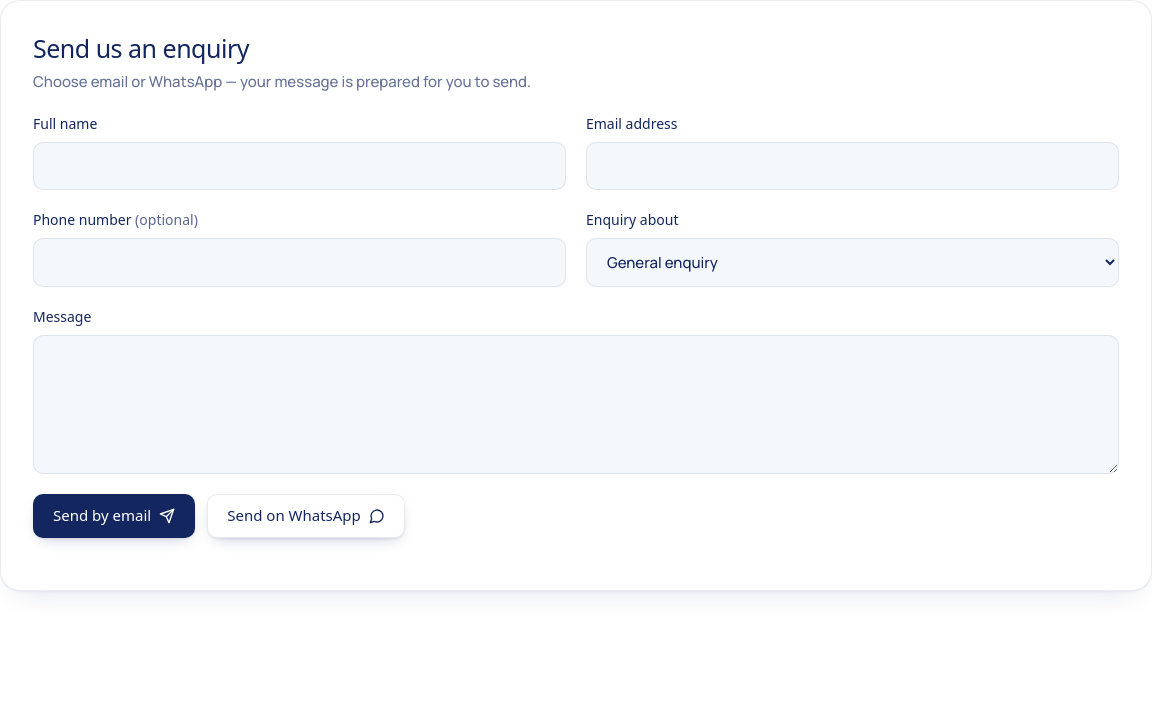
Test: EnquiryForm › opens a pre-filled email and confirms when the enquiry is valid
Type "Ada Obi" into the field labelled "Full name" at point(300, 166), box top-left (33, 142), bottom-right (566, 190)
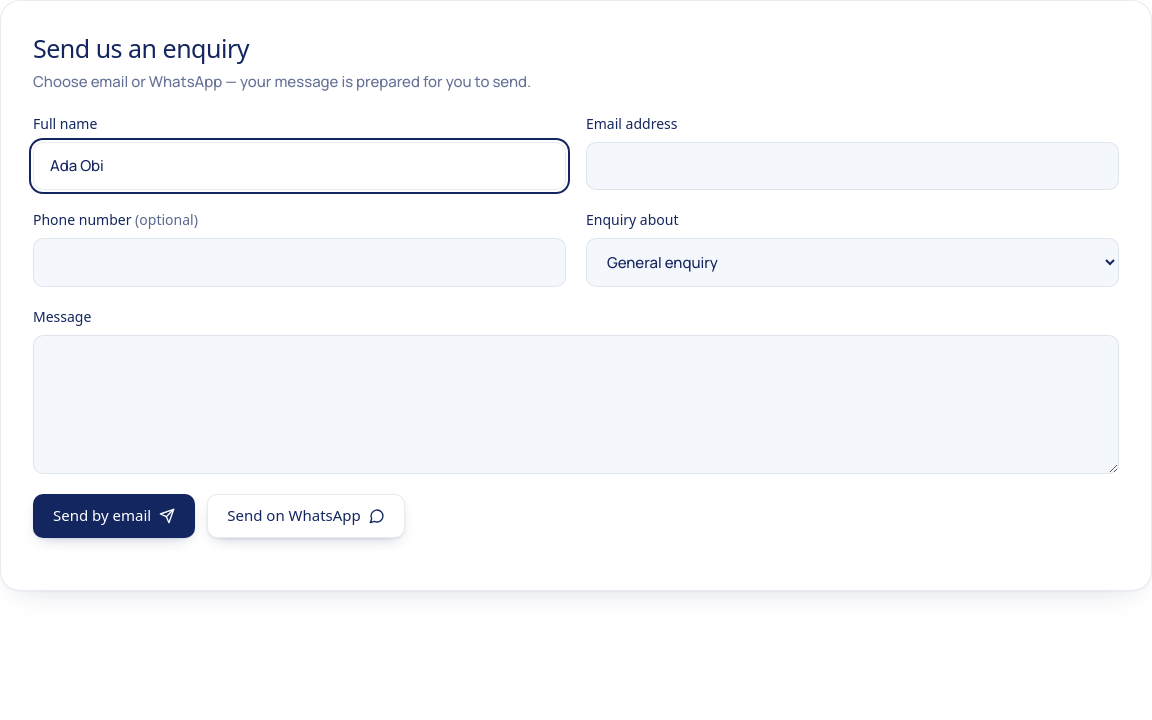
Type "ada@example.com" into the field labelled "Email address" at point(852, 166), box top-left (586, 142), bottom-right (1119, 190)
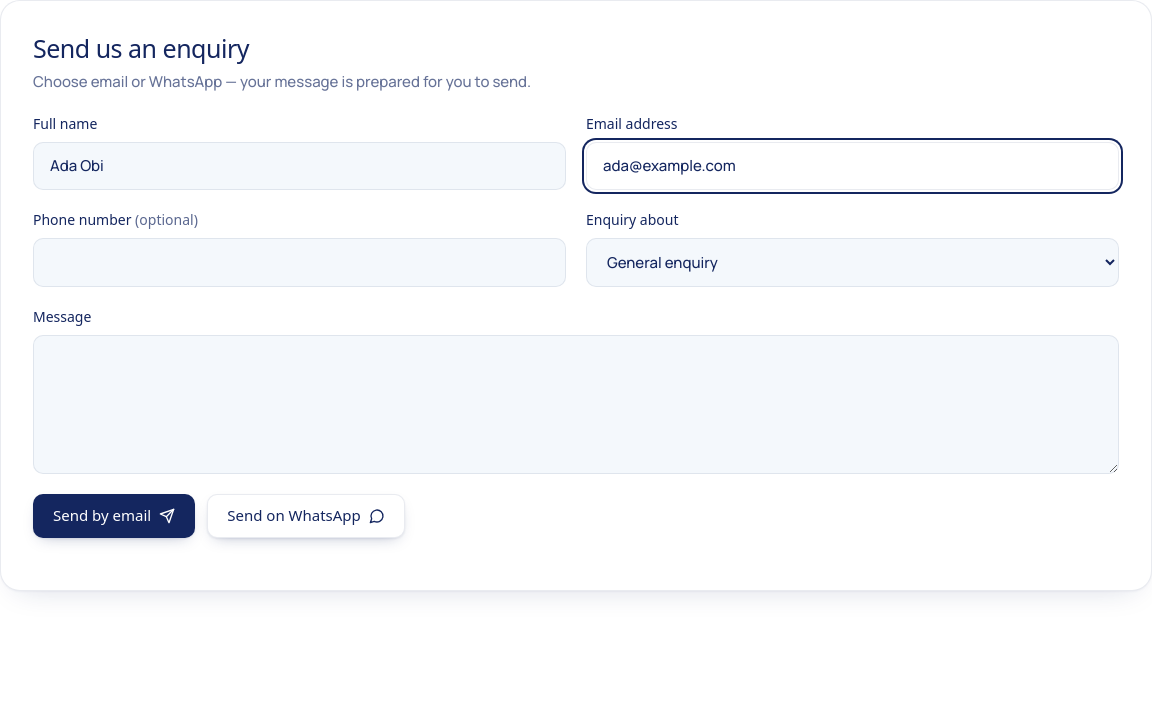
Type "Please share pricing for Goshen." into the text box labelled "Message" at point(576, 404), box top-left (33, 335), bottom-right (1119, 474)
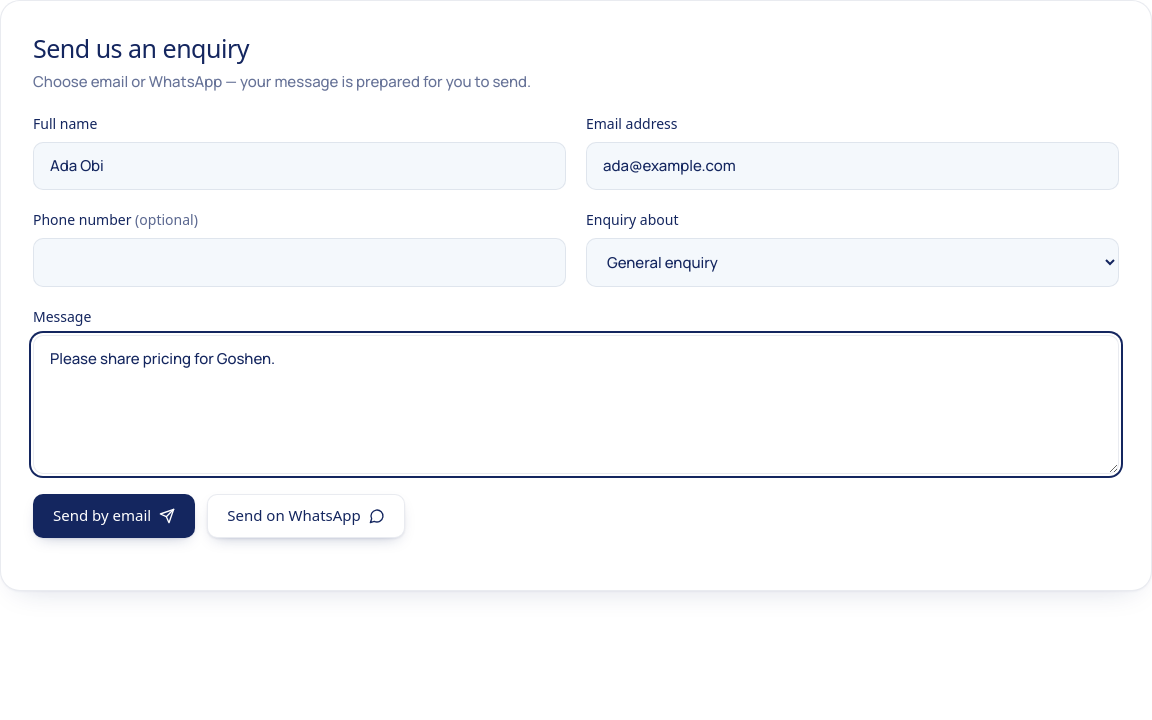
Click the button "Send by email" at point(114, 516), box top-left (33, 494), bottom-right (195, 538)
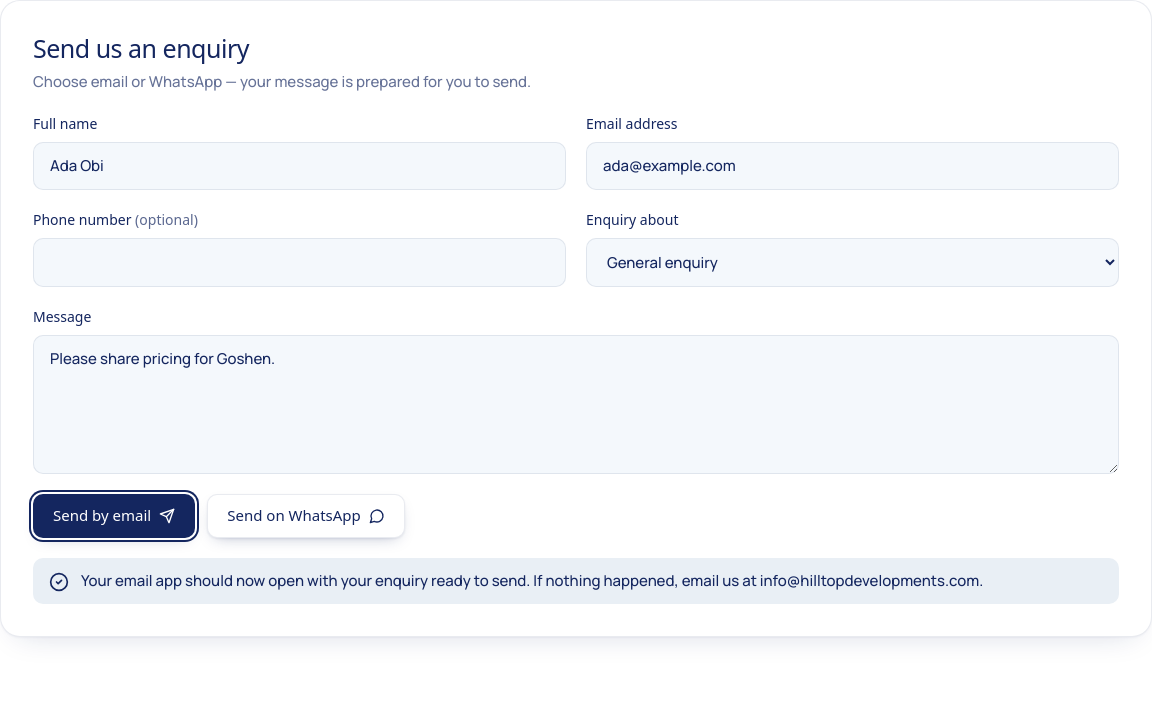
expect the message shows "email app should now open": met, box top-left (81, 570), bottom-right (983, 590)
